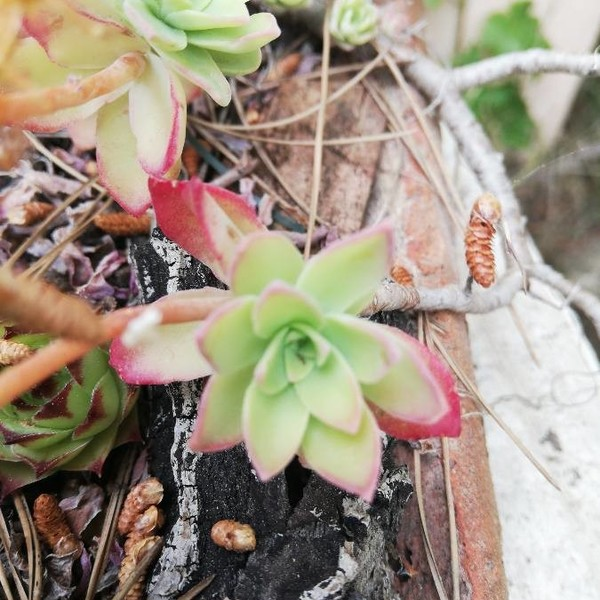obstacle: (90, 165, 488, 514)
